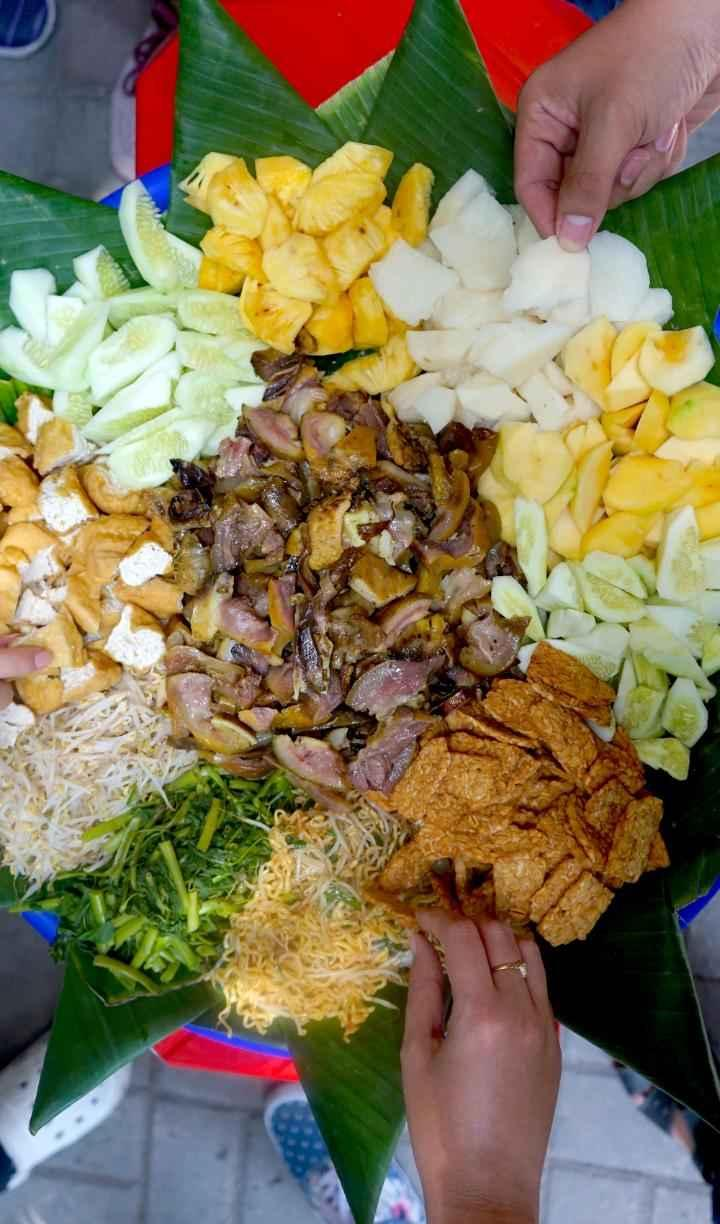rujak_cingur: (4, 143, 720, 1025)
